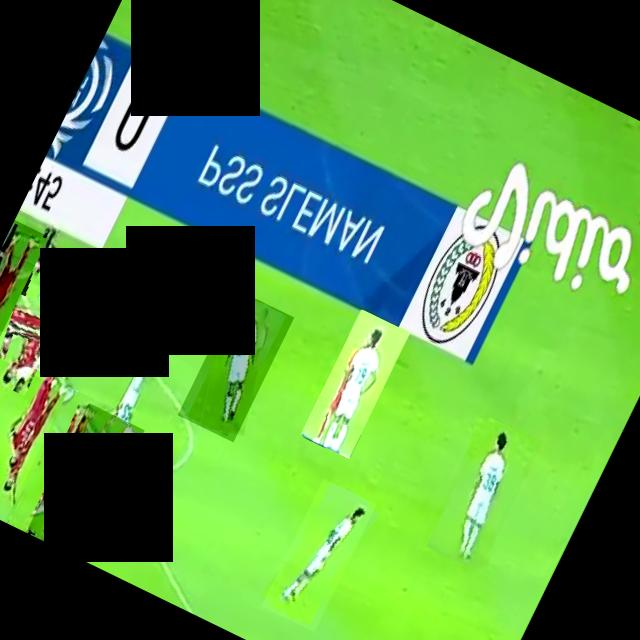soccer-player: (420, 412, 542, 572), (24, 401, 144, 559), (176, 288, 294, 441), (260, 477, 376, 630), (2, 386, 114, 544), (299, 308, 409, 458), (0, 254, 102, 386), (0, 218, 48, 366), (0, 246, 35, 330)
